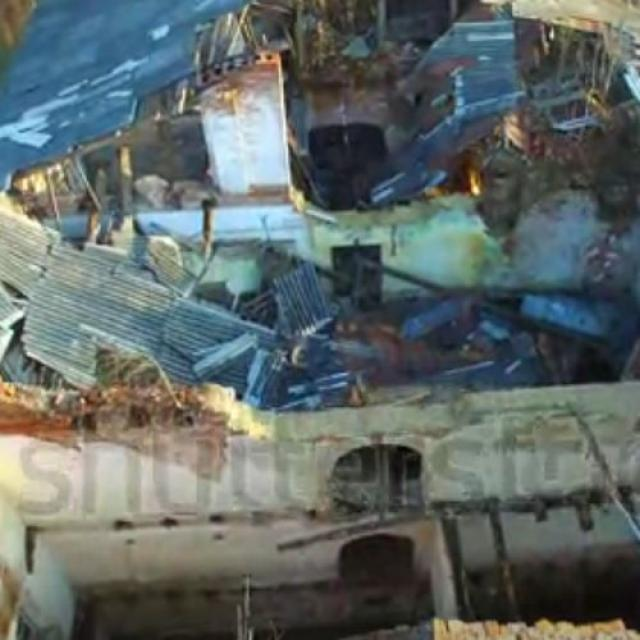collapsed_building: (7, 29, 638, 504)
